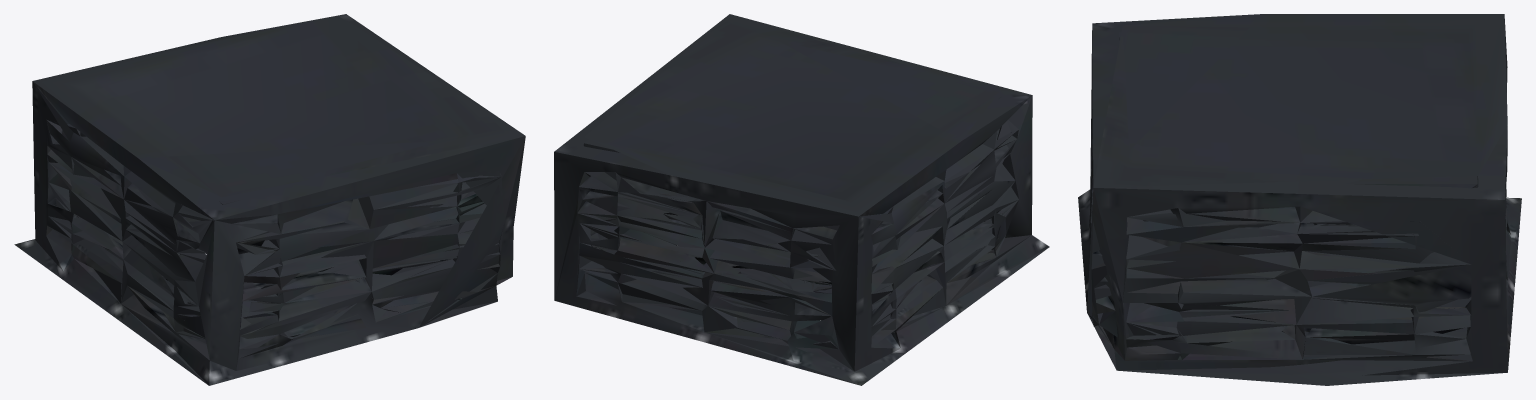
Rendered from fan.glb.
3 renders of one model, left to right at view 1: azimuth 30°, elevation 25°; view 2: azimuth 150°, elevation 25°; view 3: azimuth 270°, elevation 25°, orthographic. The views are drawn at different scales.
Visible parts, largest first — view 1: fan; view 2: fan; view 3: fan.
Boxes of the visible parts, x1=… form: fan: x1=14, y1=14, x2=525, y2=385; fan: x1=554, y1=14, x2=1049, y2=385; fan: x1=1078, y1=14, x2=1521, y2=385.
Size of the model in its own units: 3.11 by 1.5 by 3.1.
1 material, 1 textured.
